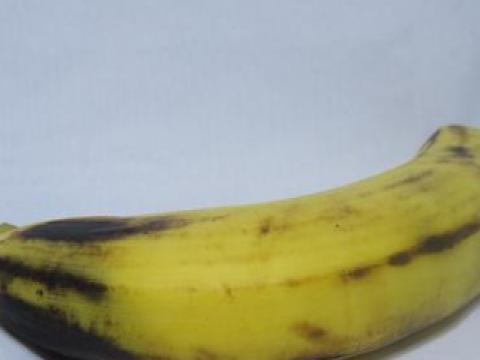ripe: (0, 94, 479, 359)
